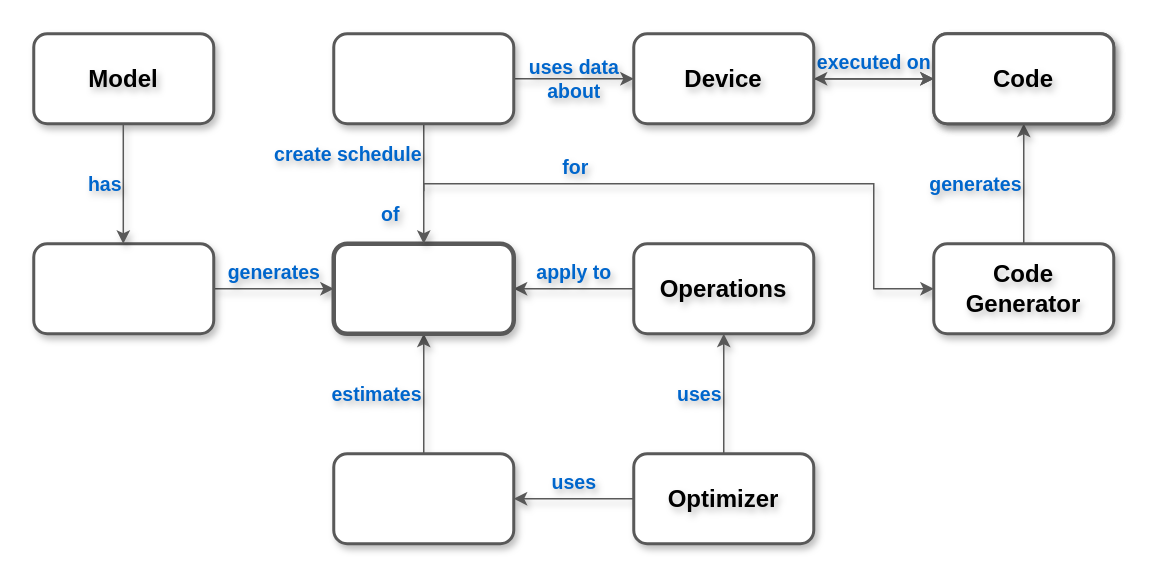
Some shapes in this 1149 by 581 pixel diagram are drawn without their labels. The shapes that lost their labels are listed below. From the top down, each one's centre as x and y in pixels, then its label:
the point at 425,80: Scheduler
the point at 125,290: Generator
the point at 424,290: Graph
the point at 425,500: Estimator
